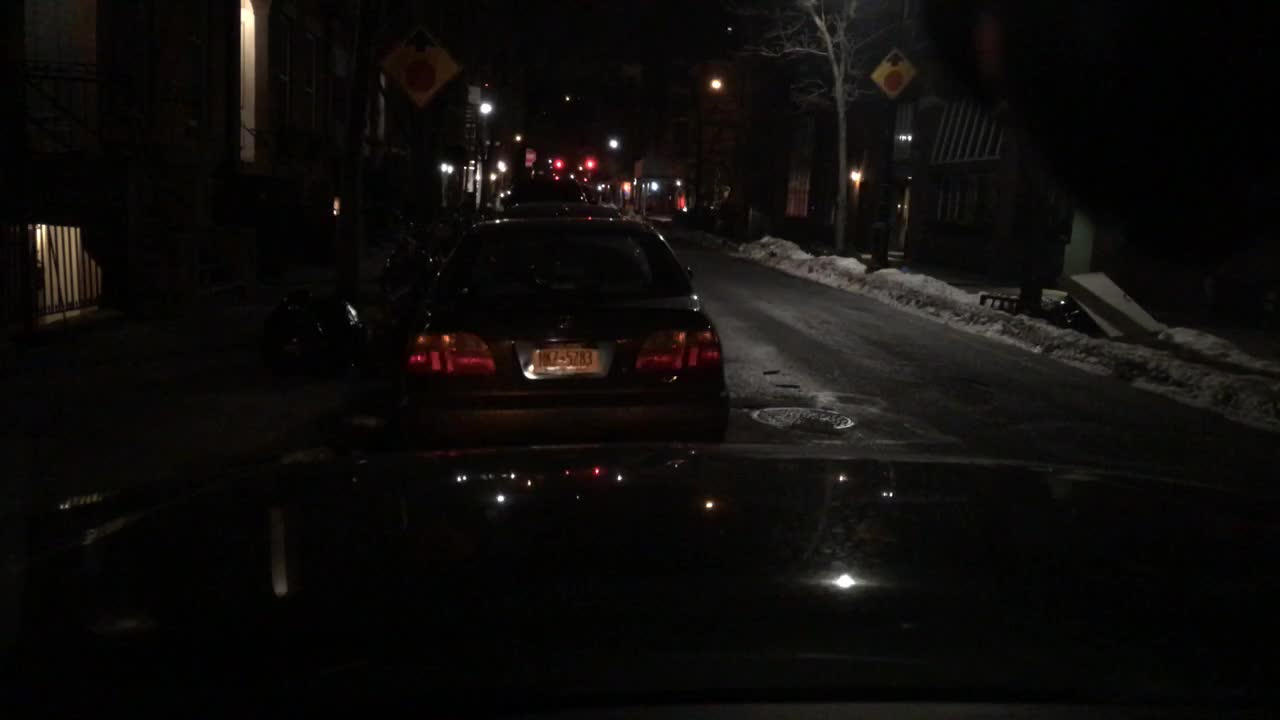car: (391, 213, 733, 449), (497, 173, 597, 205), (492, 200, 625, 220)
traffic light: (551, 160, 565, 172), (583, 158, 595, 168)
traffic sign: (376, 24, 461, 107), (864, 46, 915, 101)
